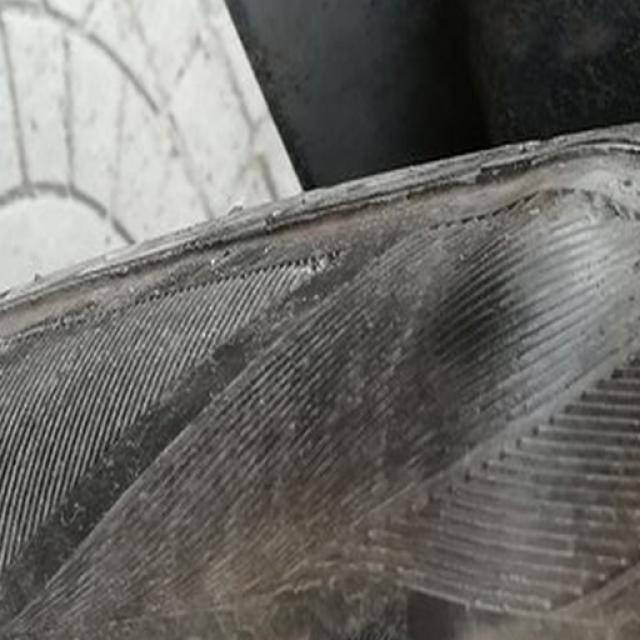Bulge: (420, 171, 638, 466)
